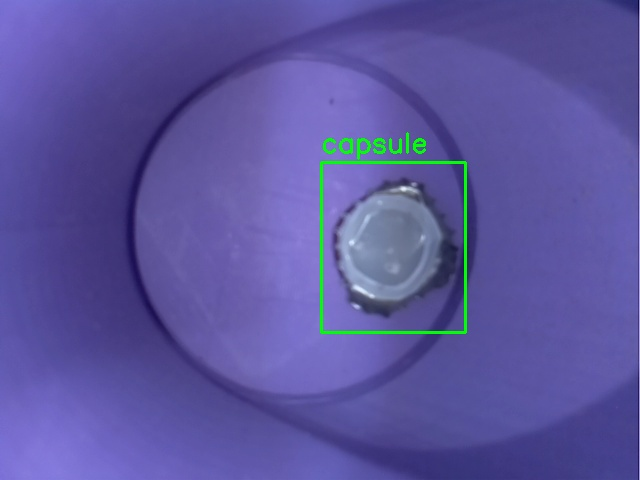capsule: (321, 162, 465, 332)
